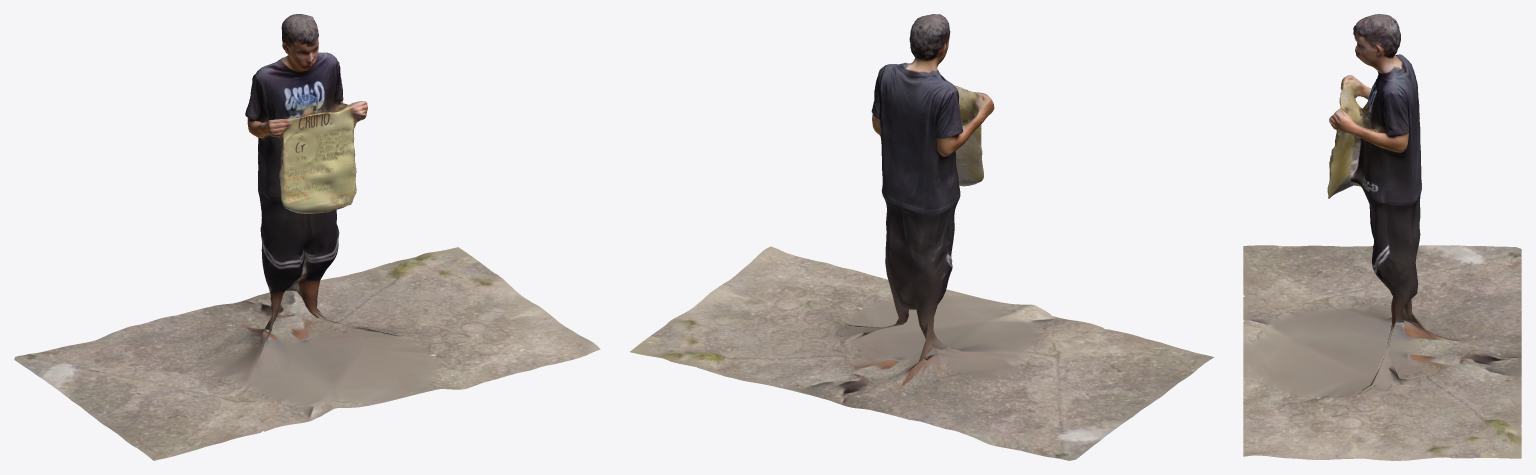
The picture shows the model from 3 angles, left to right: view 1: azimuth 30°, elevation 25°; view 2: azimuth 150°, elevation 25°; view 3: azimuth 270°, elevation 25°; orthographic projection. The views are drawn at different scales.
Visible parts, largest first — view 1: 3DModel; view 2: 3DModel; view 3: 3DModel.
Boxes of the visible parts, x1,y1,x2,y2 form: 3DModel: (14, 14, 600, 460); 3DModel: (630, 14, 1213, 460); 3DModel: (1243, 14, 1521, 460).
Size of the model in its own units: 2.09 by 1.54 by 1.15.
1 material, 1 textured.
